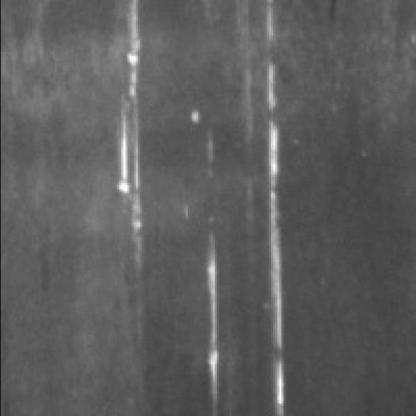scratches: (243, 0, 293, 410), (110, 0, 146, 314), (196, 231, 220, 408)
